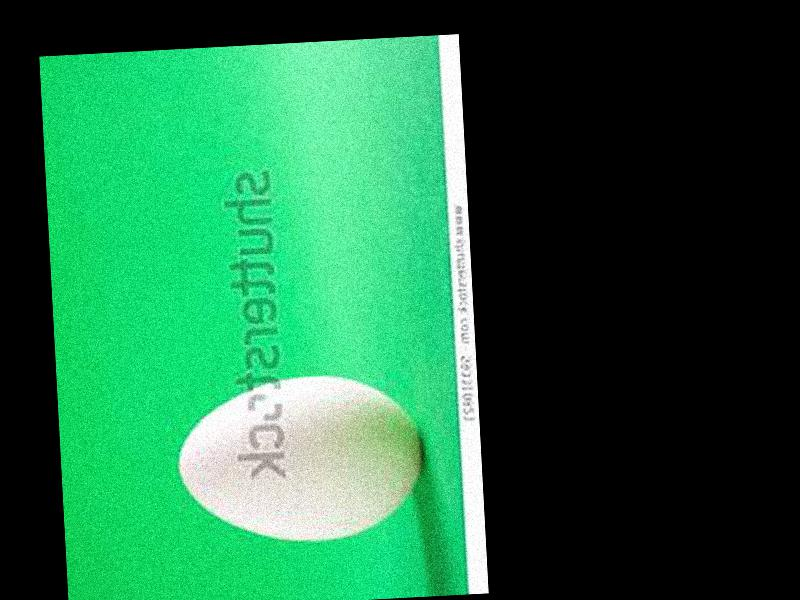Eggs: (175, 371, 430, 549)
